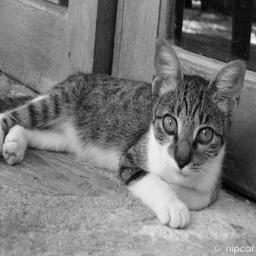catnose: (174, 151, 191, 173)
